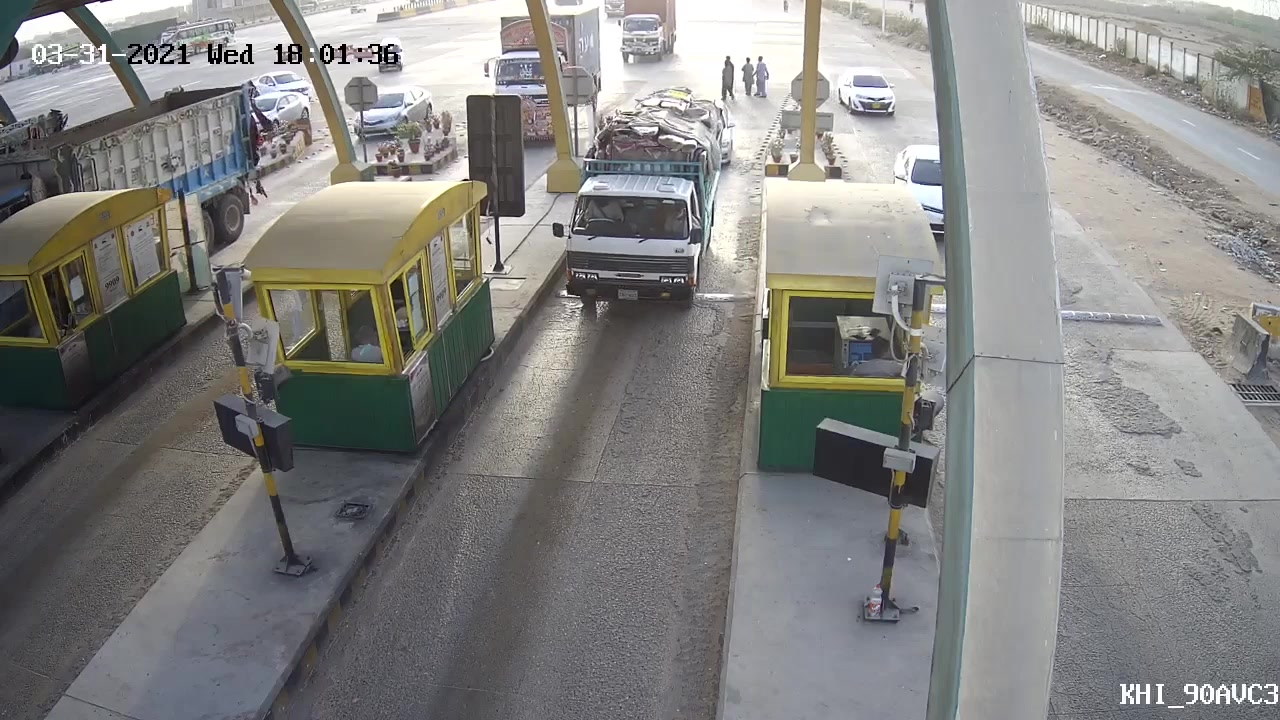F3: (548, 83, 736, 315)
